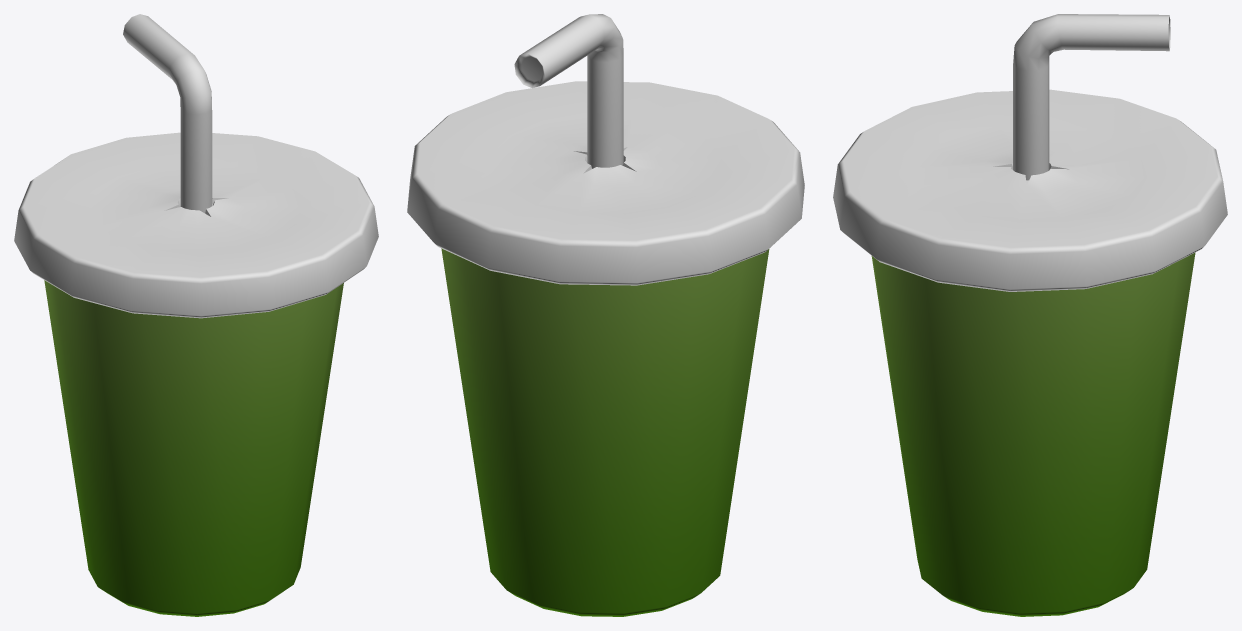
File: Sprite.fbx
The picture shows the model from 3 angles, left to right: view 1: azimuth 30°, elevation 25°; view 2: azimuth 150°, elevation 25°; view 3: azimuth 270°, elevation 25°; orthographic projection. The views are drawn at different scales.
Visible parts, largest first — view 1: Sprite; view 2: Sprite; view 3: Sprite.
Boxes of the visible parts, left/top/right/bottom form: Sprite: left=14, top=14, right=378, bottom=616; Sprite: left=407, top=14, right=804, bottom=616; Sprite: left=833, top=14, right=1227, bottom=616.
Size of the model in its own units: 12.87 by 20.12 by 12.87.
Materials: 1 (1 with a texture image).
